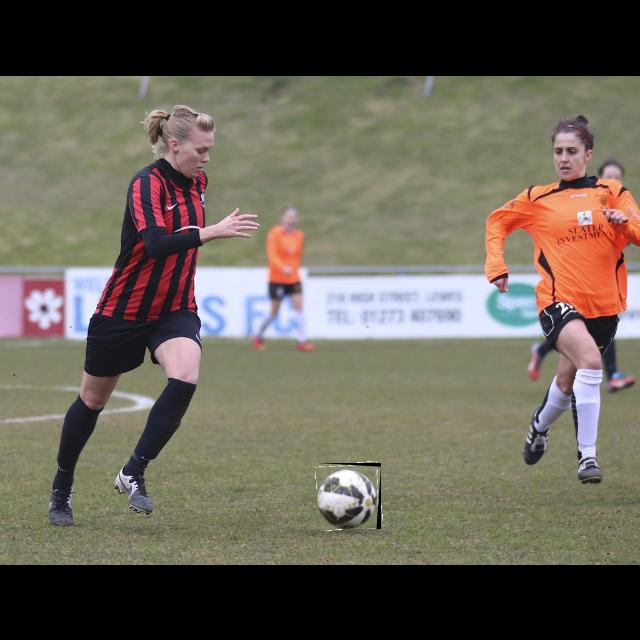Football: (317, 463, 381, 529)
